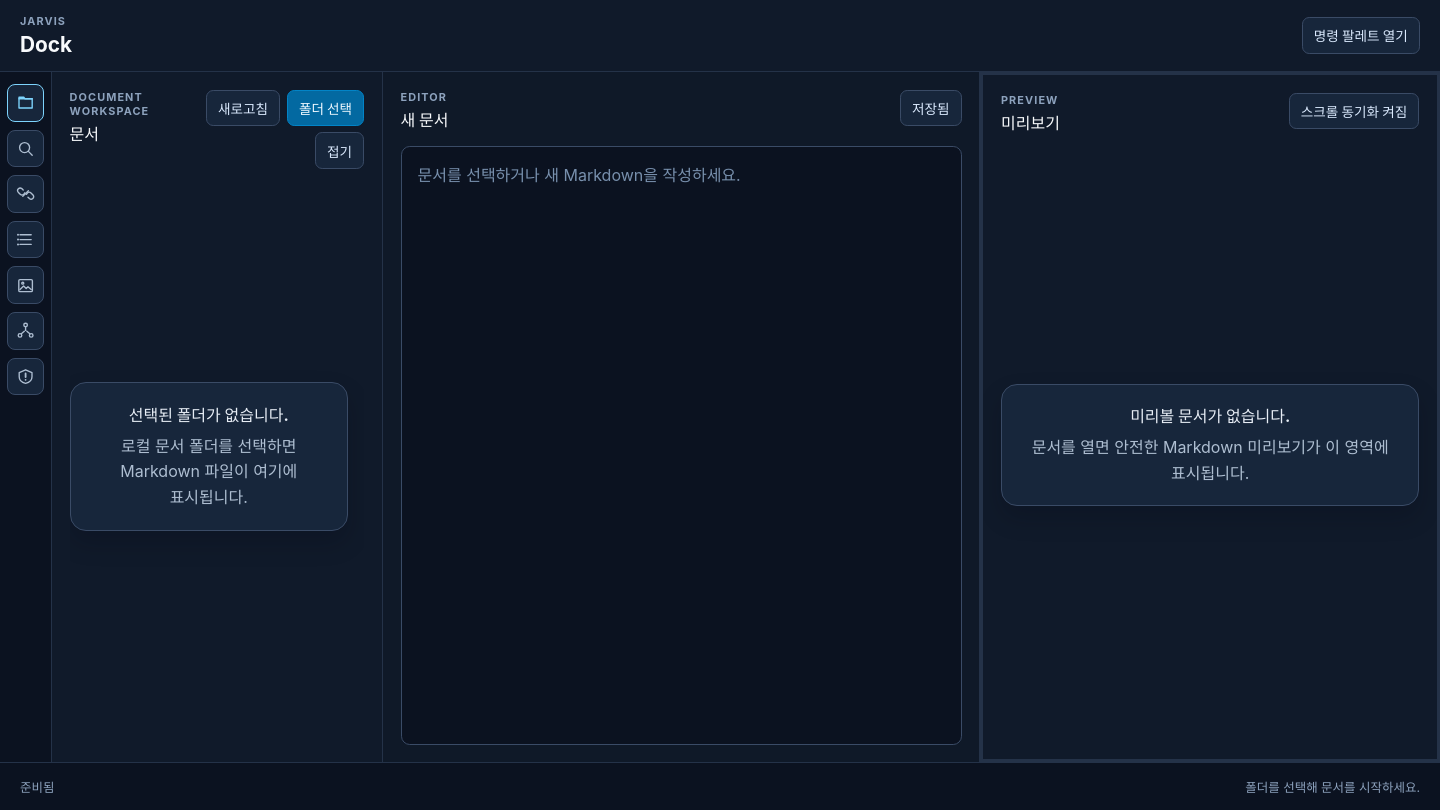
Test: App › shows documents that link to the selected Markdown document
Click the button "폴더 선택".
click(326, 108)  # box [287,90,364,126]
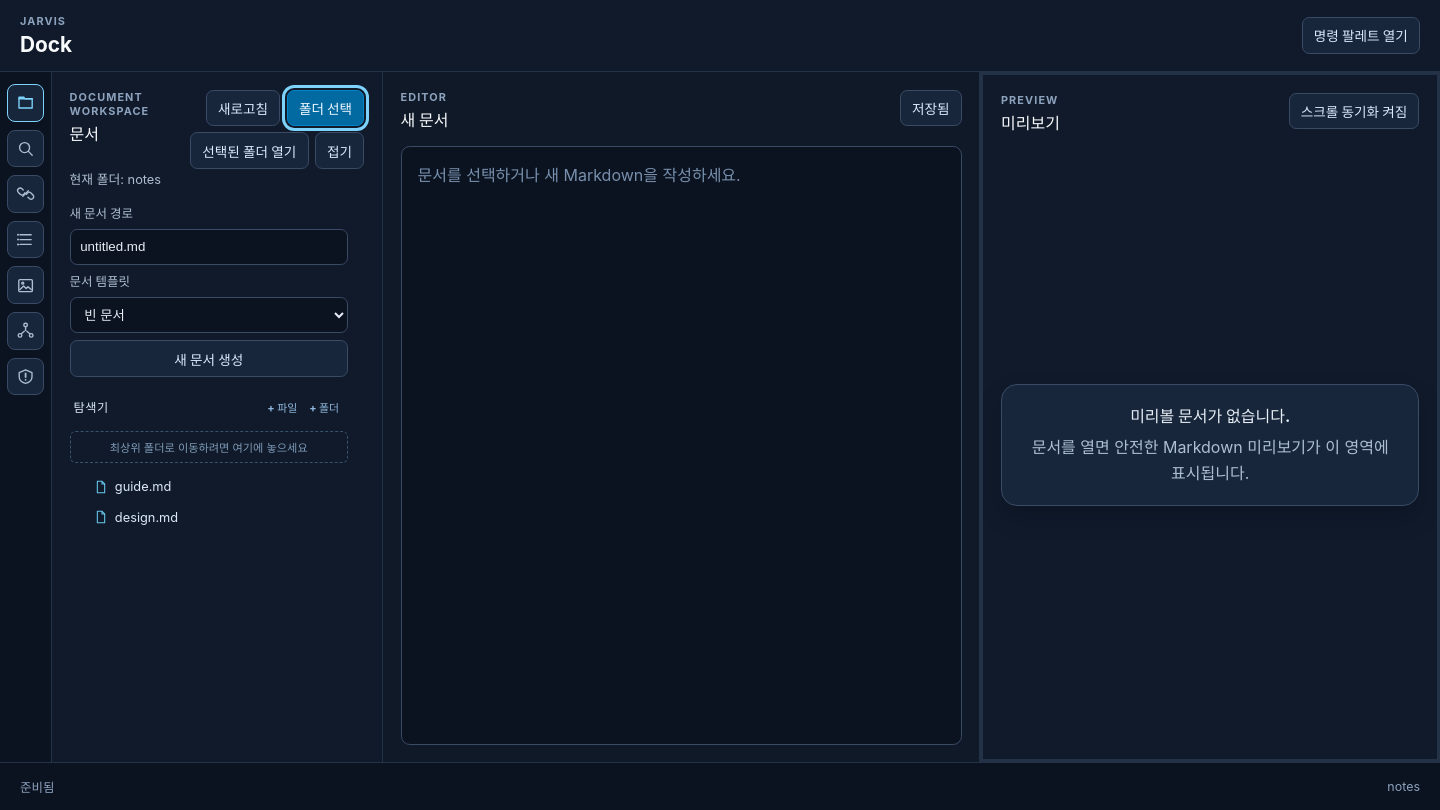
Click the button "design.md".
click(175, 517)  # box [90,505,260,529]
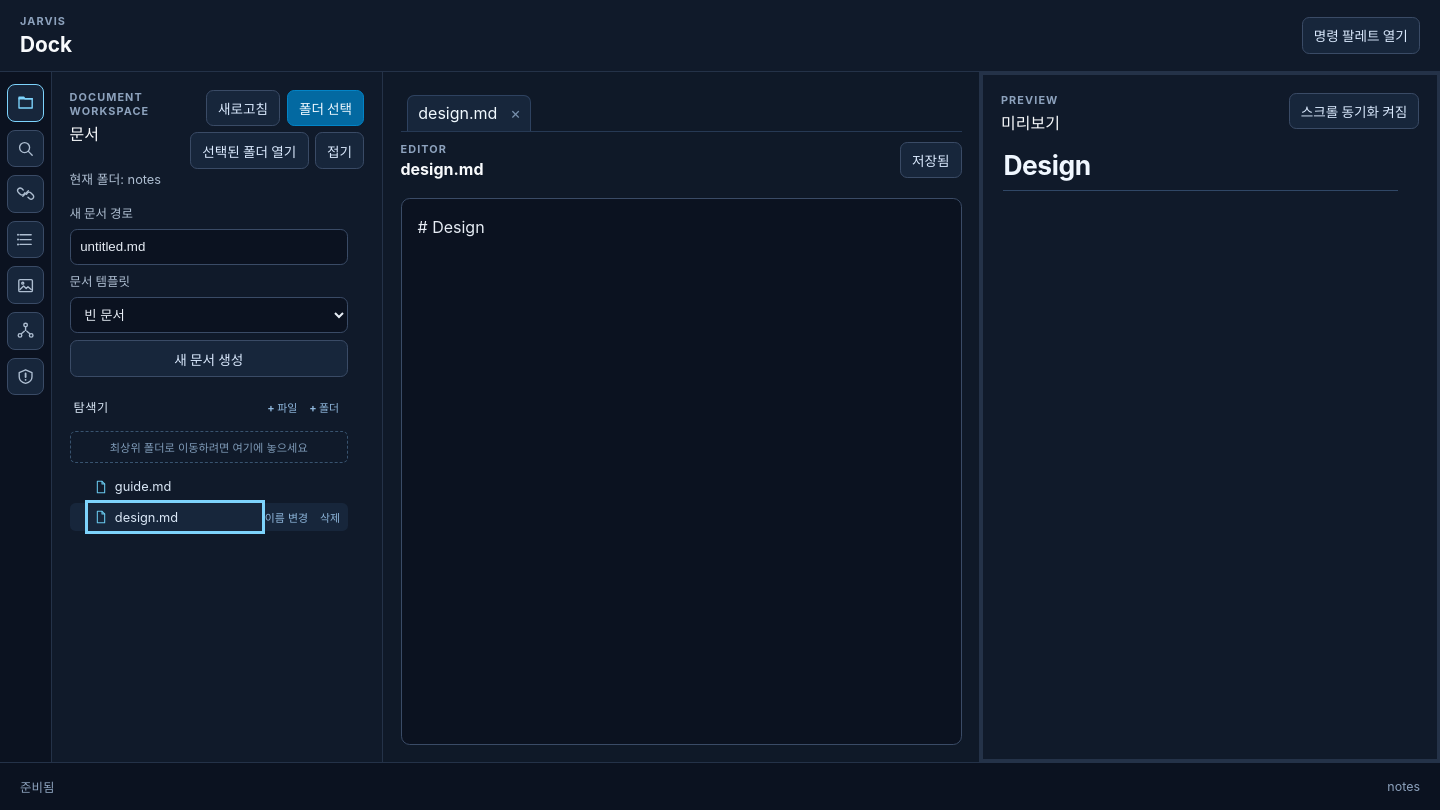
Click the button named "연결 문서 열기".
click(26, 194)  # box [7,175,44,213]
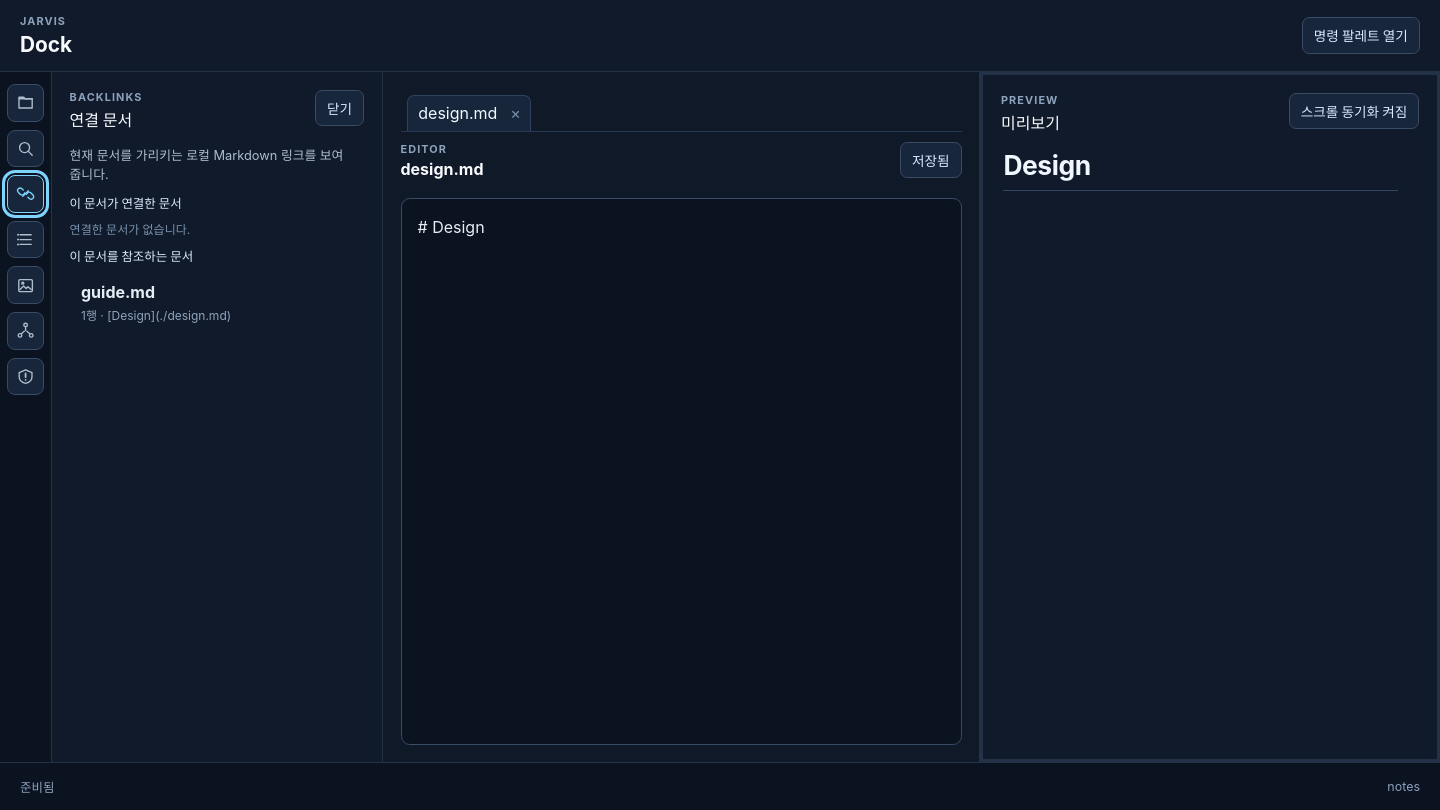
Result: the button "guide.md 1행 · [Design](./design.md)" is shown at [70,272,348,333]
Click the button named "탐색기 열기".
click(26, 103)  # box [7,84,44,122]
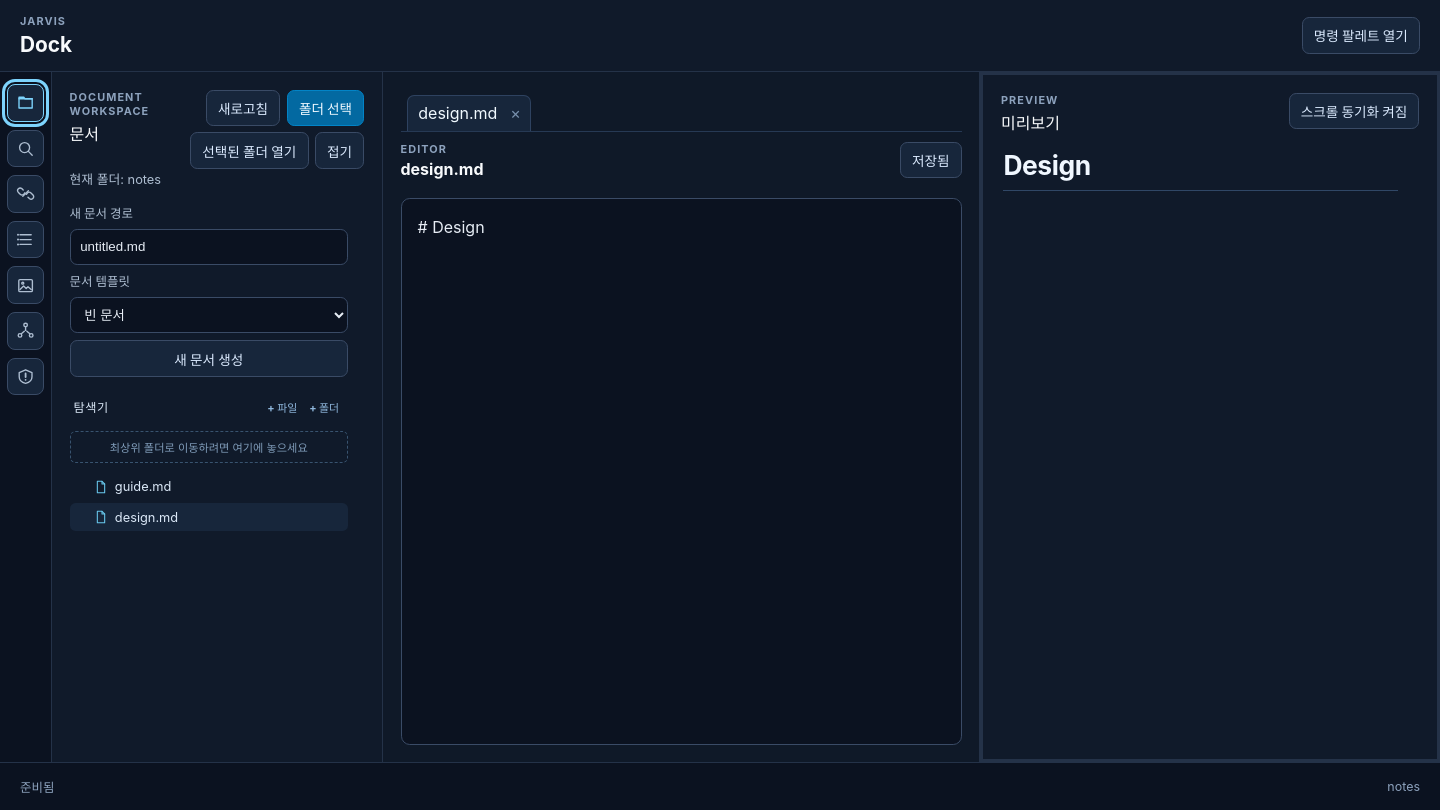
Click the button "guide.md".
click(175, 487)  # box [90,475,260,499]
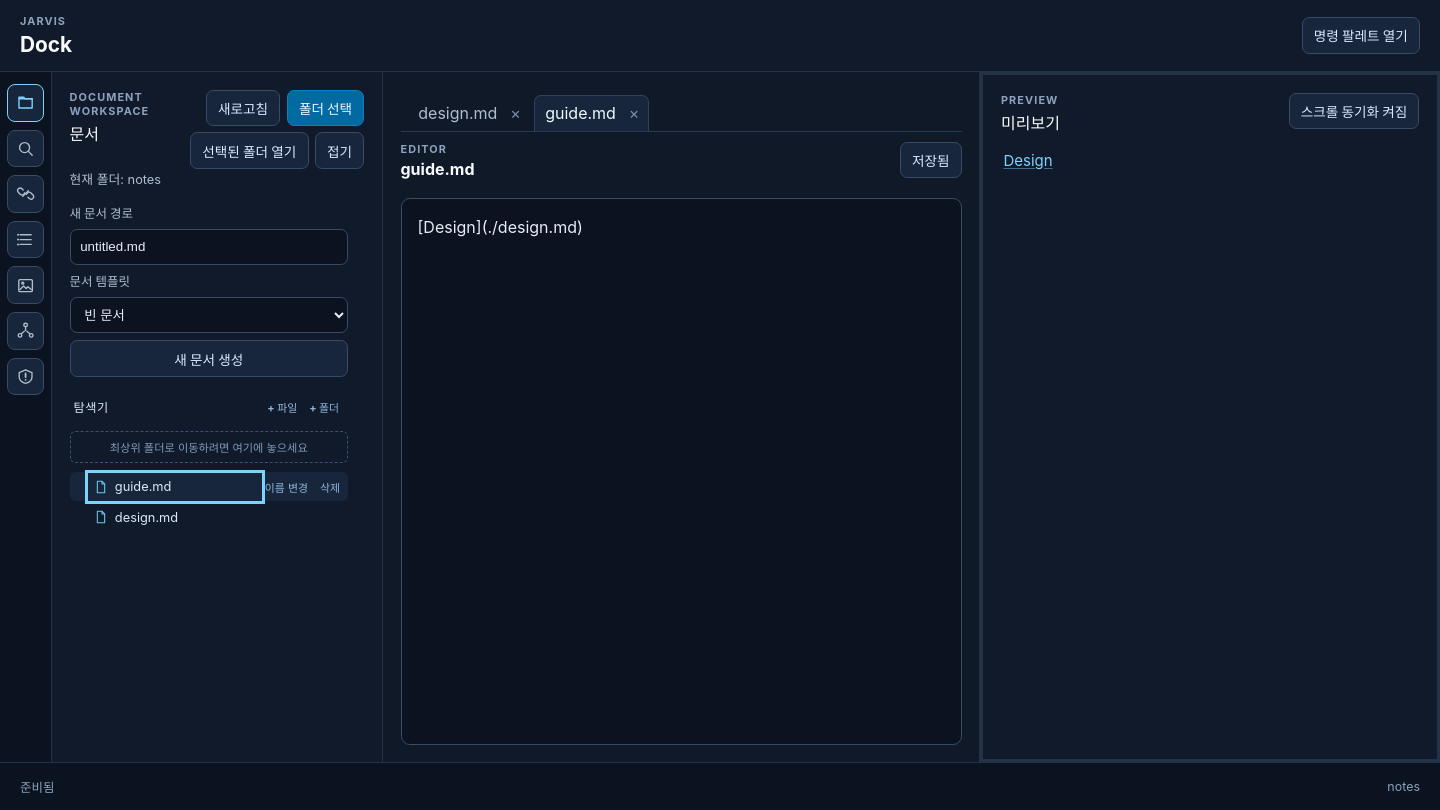
Click the button named "연결 문서 열기".
click(26, 194)  # box [7,175,44,213]
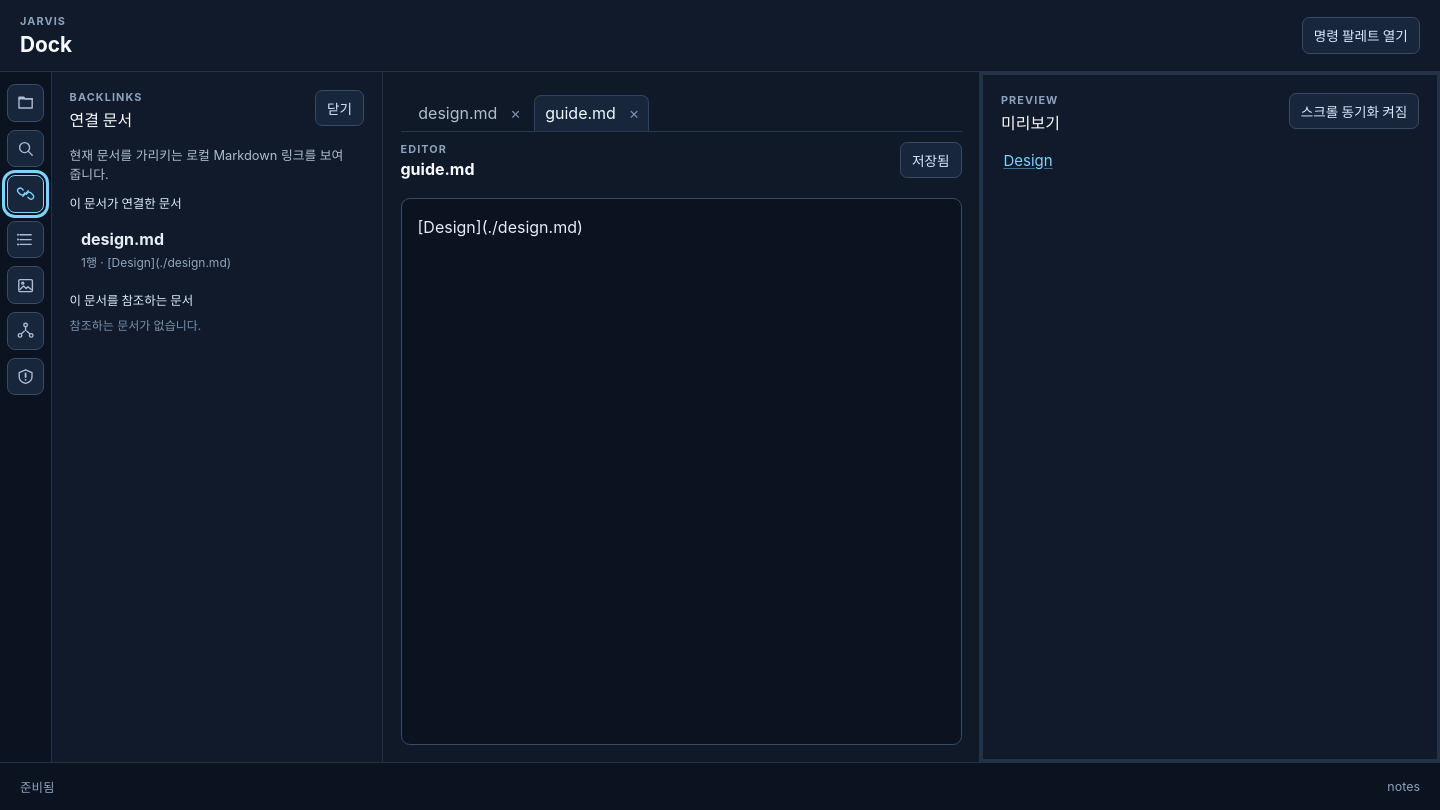
Result: the button "design.md 1행 · [Design](./design.md)" is shown at [70,220,348,280]
